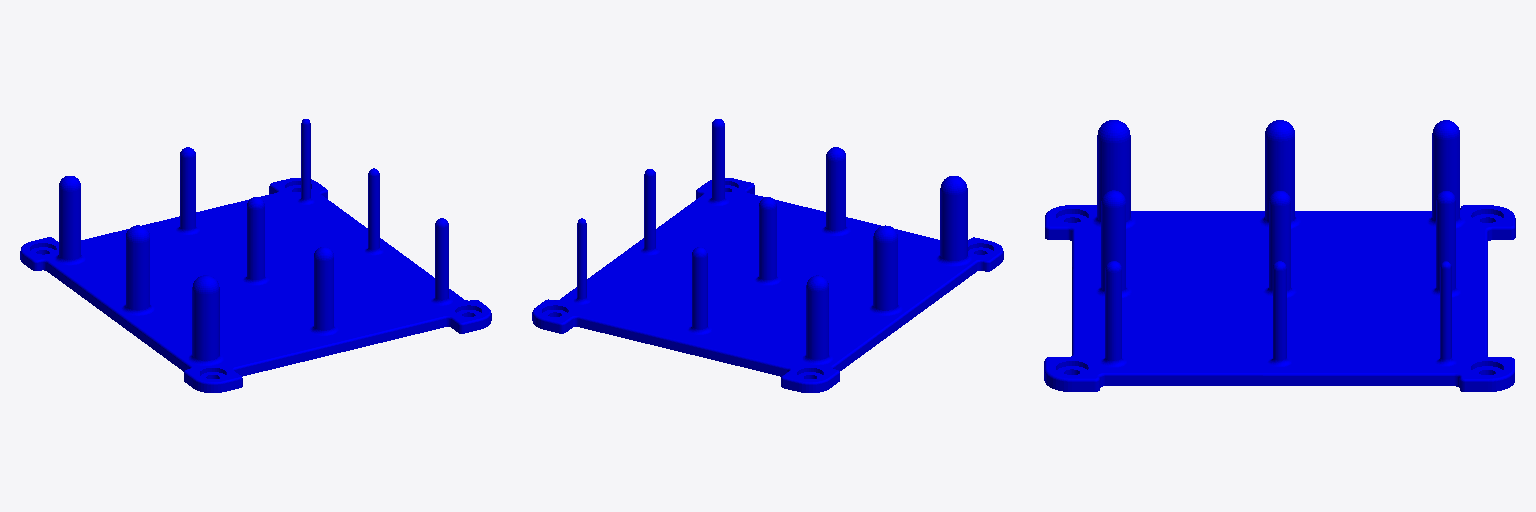
The robot description file, URDF, robot "spherical_probes.urdf":
<?xml version="1.0" ?>
<robot name="spherical_probes.urdf">

  <link name="spherical_probes">
    <contact>
    	<friction_anchor/>
    	   <lateral_friction value="1.0"/>
    </contact>
    <inertial>
      <origin rpy="0 0 1.57" xyz="0 0 0"/>
       <mass value=".1"/>
       <inertia ixx="1" ixy="0" ixz="0" iyy="1" iyz="0" izz="1"/>
    </inertial>
    <visual>
      <origin rpy="0 0 1.57" xyz="0 0 0"/>
      <geometry>
				<mesh filename="spherical_probes.obj" scale="1.0 1.0 1.0"/>
      </geometry>
       <material name="blue">
        <color rgba="0 0 1 1.0"/>
      </material>
    </visual>
    <collision>
      <origin rpy="0 0 1.57" xyz="0 0 0"/>
      <geometry>
				<mesh filename="spherical_probes.obj" scale="1.0 1.0 1.0"/>
      </geometry>
    </collision>
  </link>


</robot>

--- What the picture shows (computed from the rendered views, not written in the file) ---
Views: 3 orthographic renders of the robot side by side, from view 1: azimuth 30°, elevation 25°; view 2: azimuth 150°, elevation 25°; view 3: azimuth 270°, elevation 25°.
Model spherical_probes.urdf with 1 links and 0 joints (none), rooted at spherical_probes, posed every joint at zero.
Visible links, largest first — view 1: spherical_probes; view 2: spherical_probes; view 3: spherical_probes.
Boxes of the visible links, x1,y1,x2,y2 form: spherical_probes: (20,119,491,392); spherical_probes: (532,119,1003,392); spherical_probes: (1044,120,1515,391).
Bounding box of the posed robot: 0.1501 × 0.1701 × 0.045 m (x, y, z).
Meshes: 1 distinct files referenced, 1 mesh visuals loaded (1 OBJ).
